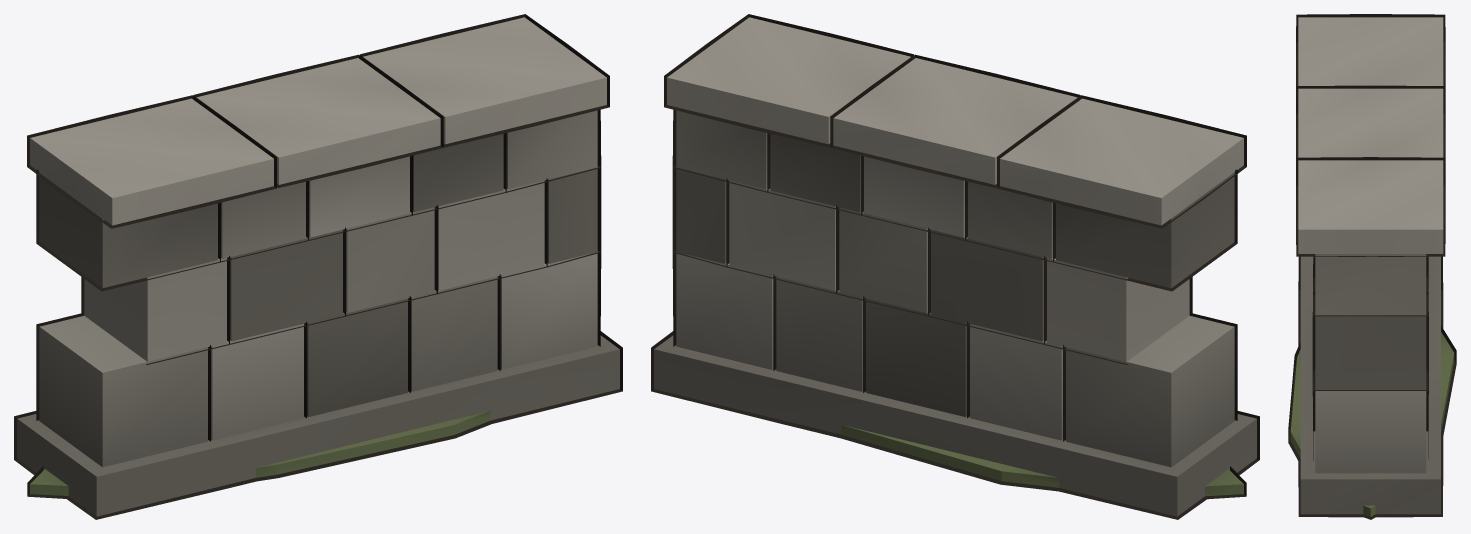
File: mur.glb
3 renders of one model, left to right at view 1: azimuth 30°, elevation 25°; view 2: azimuth 150°, elevation 25°; view 3: azimuth 270°, elevation 25°, orthographic. The views are drawn at different scales.
Visible parts, largest first — view 1: mur, mur_outline; view 2: mur, mur_outline; view 3: mur, mur_outline.
Part boxes in pixels (x1=…): mur: x1=17, y1=17, x2=619, y2=516; mur_outline: x1=14, y1=14, x2=622, y2=519; mur: x1=654, y1=17, x2=1256, y2=516; mur_outline: x1=651, y1=14, x2=1259, y2=519; mur: x1=1290, y1=17, x2=1454, y2=516; mur_outline: x1=1288, y1=14, x2=1456, y2=519.
Size of the model in its own units: 2.36 by 1.3 by 0.6969.
